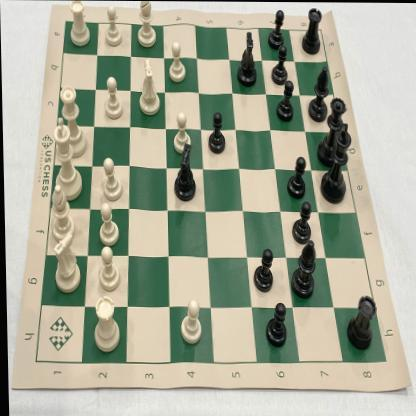black-bishop: (290, 240, 314, 300), (306, 64, 329, 123)
black-king: (319, 122, 351, 204)
black-knight: (171, 144, 196, 202), (236, 30, 258, 87)
black-pawn: (263, 299, 287, 349), (250, 246, 272, 294), (284, 155, 306, 199), (291, 202, 312, 245), (274, 78, 293, 122), (207, 109, 225, 155), (266, 7, 285, 49), (271, 47, 288, 84)
black-queen: (317, 97, 347, 165)
white-bishop: (48, 183, 76, 244), (135, 1, 158, 49)
white-king: (49, 116, 83, 201)
white-knight: (50, 232, 82, 293), (136, 58, 161, 116)
white-pawn: (95, 246, 121, 292), (177, 298, 202, 345), (101, 157, 122, 202), (97, 202, 118, 245), (103, 4, 123, 49), (103, 75, 123, 119), (171, 111, 191, 153), (167, 42, 186, 83)
white-queen: (55, 85, 87, 158)
white-rook: (343, 291, 375, 352), (89, 295, 119, 353), (66, 1, 91, 47), (301, 6, 322, 57)
